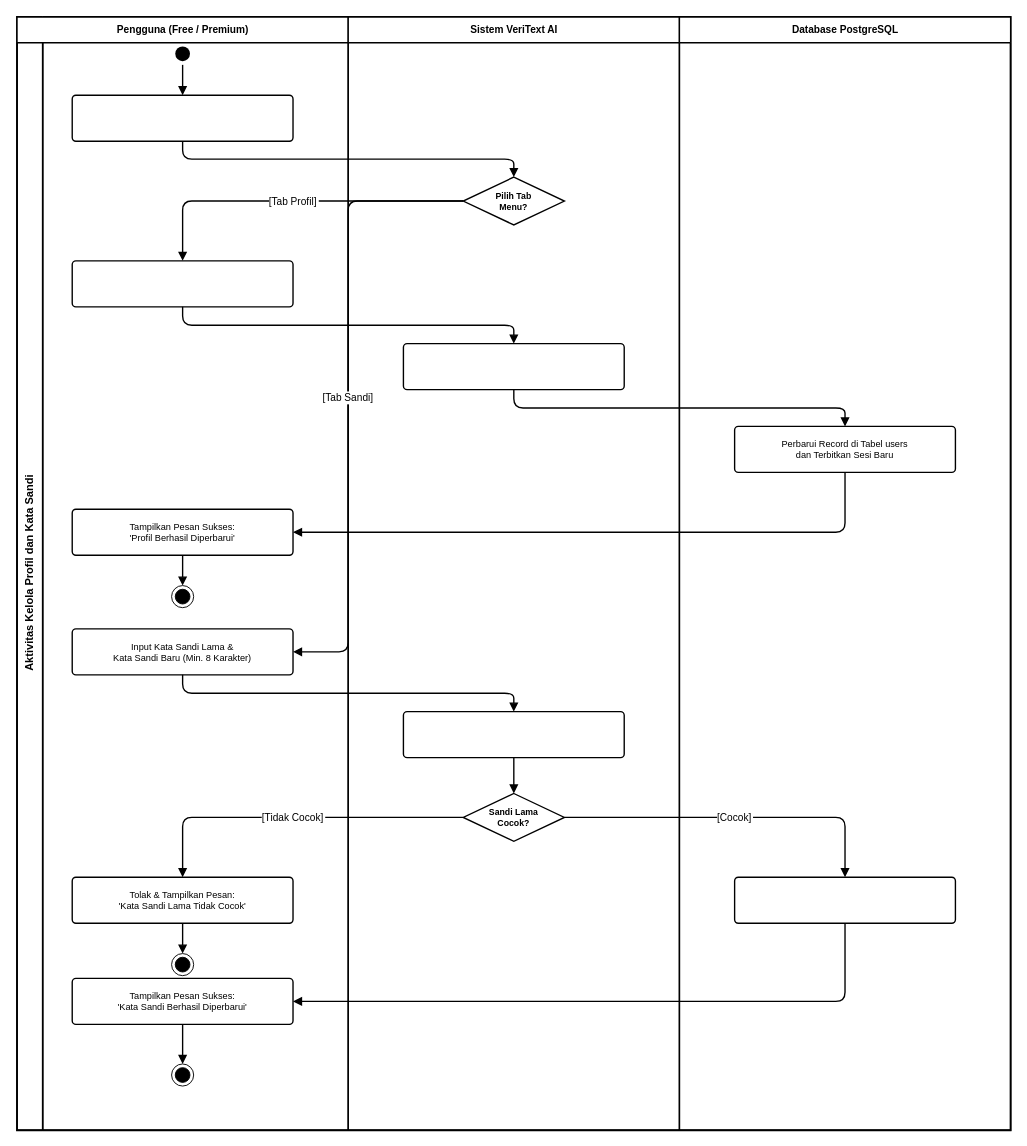
This 1027x1146 diagram has some shape labels left out. The shapes that lost their labels are listed below. From the top down, each one's centre as x and y in pixels, then its label:
At (x=182, y=117): "Buka Menu Pengaturan Akun dan Pilih Tab Pengaturan".
At (x=182, y=283): "Input Nama Lengkap Baru / Preferensi Bahasa".
At (x=513, y=366): "Sanitasi String (Anti-XSS) & Validasi Format Data".
At (x=513, y=734): "Verifikasi Hash Bcrypt Kata Sandi Lama".
At (x=845, y=899): "Hash Bcrypt Kata Sandi Baru & Cabut Semua Sesi Aktif Lain".
